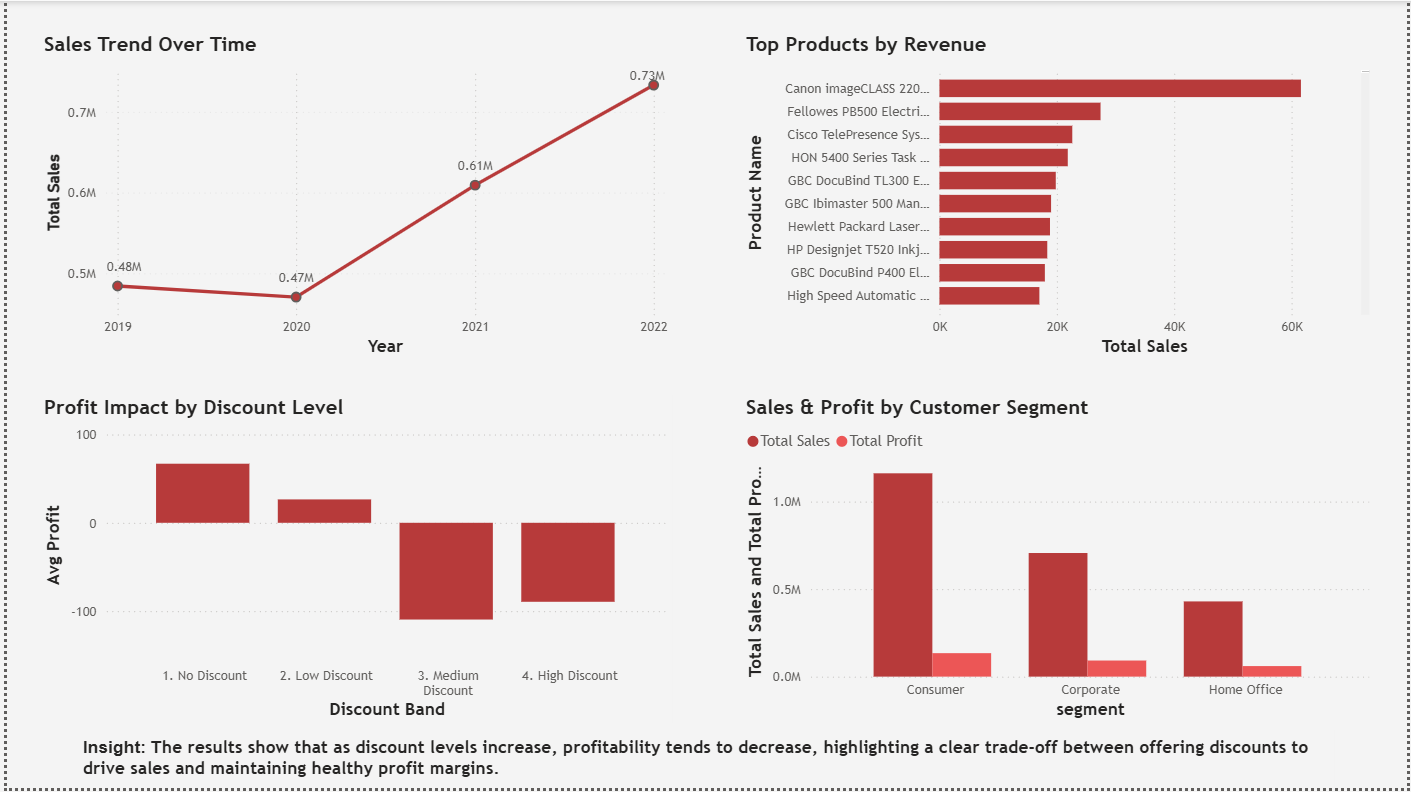

This screenshot's page, from the dashboard's own definition file:
{"tool":"powerbi","page":{"name":"Page 2","canvas":[1280,720],"ordinal":1},"visuals":[{"type":"clusteredBarChart","title":"Top Products by Revenue","fields":{"Category":["orders.product_name"],"Y":["orders.Total Sales"]},"box":[671.1,28.8,580.5,300.5],"z":0},{"type":"clusteredColumnChart","title":"Sales & Profit by Customer Segment","fields":{"Category":["orders.segment"],"Y":["orders.Total Sales","orders.Total Profit"]},"box":[671.1,360.9,580.5,300.5],"z":2000},{"type":"lineChart","title":"Sales Trend Over Time","fields":{"Category":["orders.order_date.Variation.Date Hierarchy.Year","orders.order_date.Variation.Date Hierarchy.Month"],"Y":["orders.Total Sales"]},"box":[28.8,28.8,580.5,300.5],"z":3000},{"type":"clusteredColumnChart","title":"Profit Impact by Discount Level","fields":{"Y":["orders.Avg Profit"],"Category":["orders.Discount Band"]},"box":[29,361,580,300],"z":3001},{"type":"textbox","box":[64.7,666.9,1150.1,52.7],"z":3002}]}

Visuals, with their boxes in screenshot pixels (x1, y1, x2, y2), scaled from the page's 1280x720 canvas onto the 1411x792 screenshot:
"Top Products by Revenue" clusteredBarChart: x1=740 y1=32 x2=1380 y2=362
"Sales & Profit by Customer Segment" clusteredColumnChart: x1=740 y1=397 x2=1380 y2=728
"Sales Trend Over Time" lineChart: x1=32 y1=32 x2=672 y2=362
"Profit Impact by Discount Level" clusteredColumnChart: x1=32 y1=397 x2=671 y2=727
textbox: x1=71 y1=734 x2=1339 y2=791
